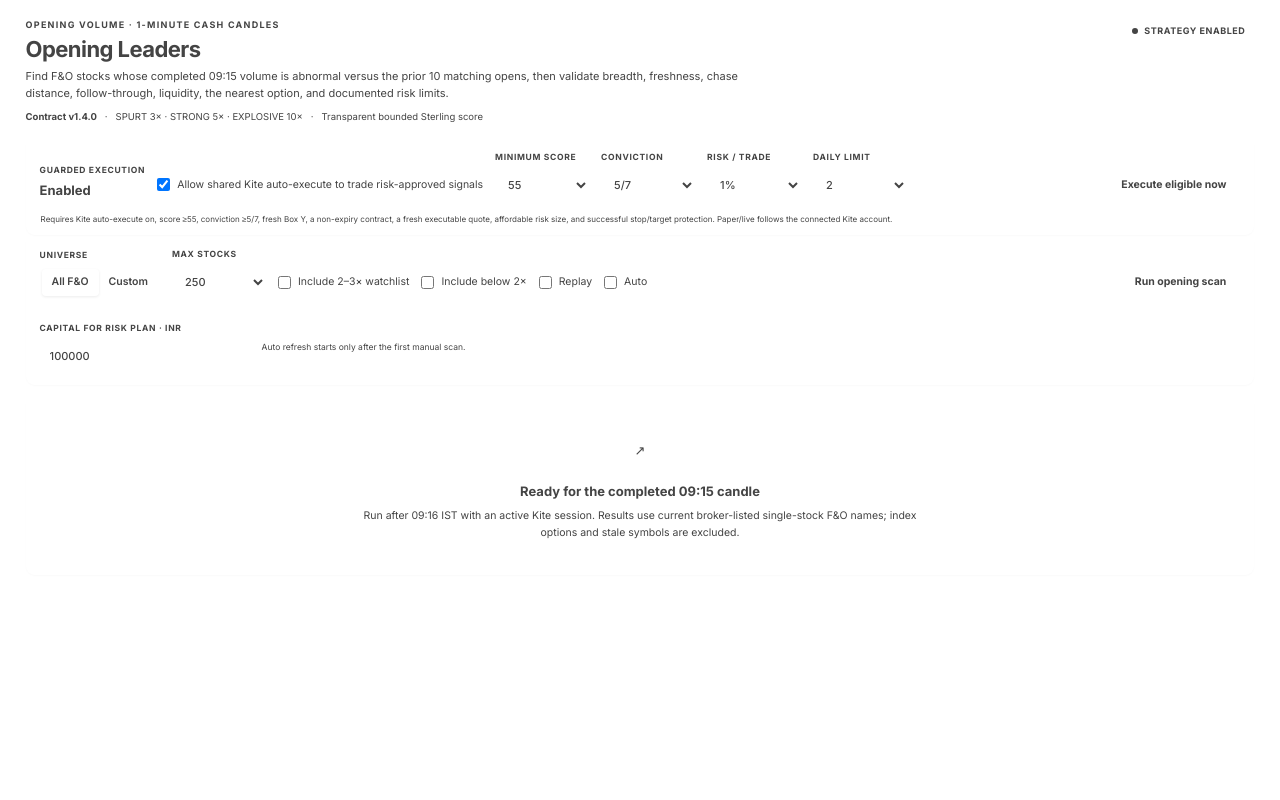
Test case: OpeningVolumeLeadersPane › does not send an empty custom-symbol scan
Click the button "Custom" at (128, 283), box [99,269,158,296]
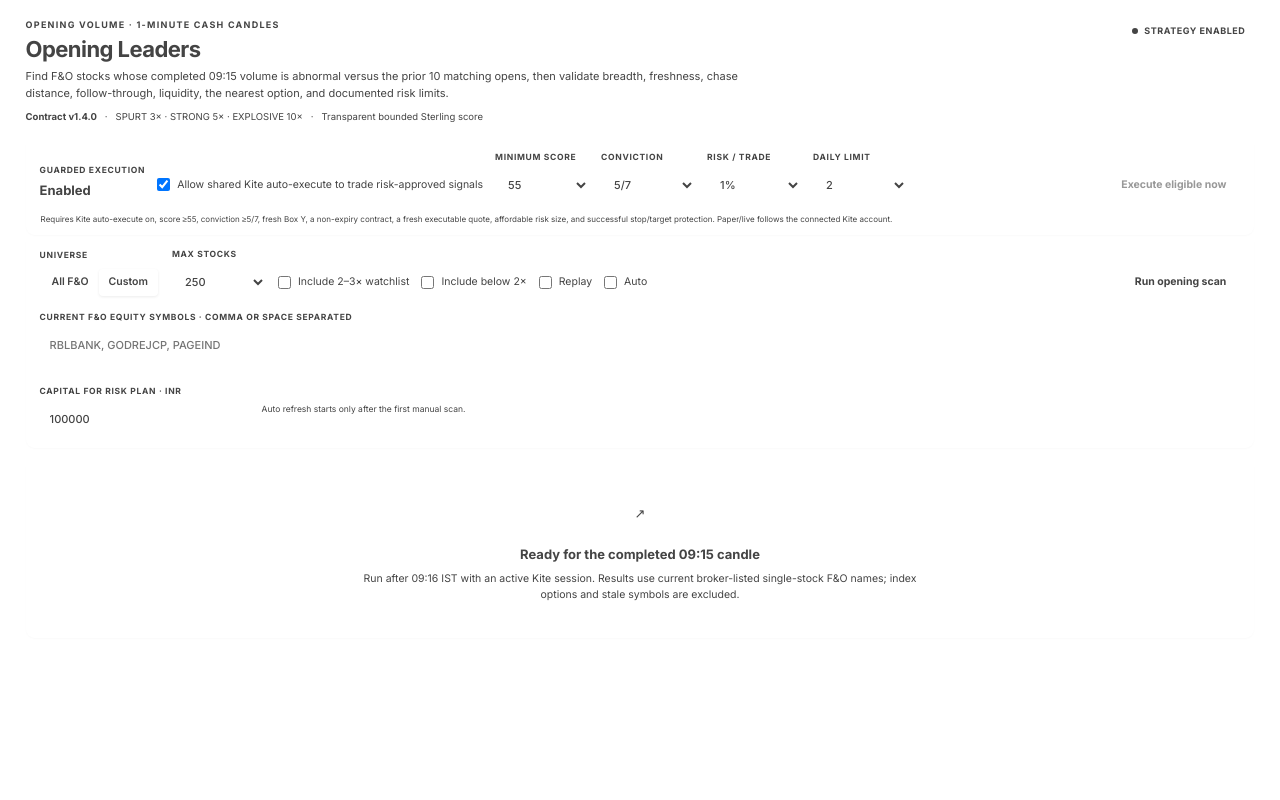
Click the button "Run opening scan" at (1181, 282), box [1121,266,1240,298]
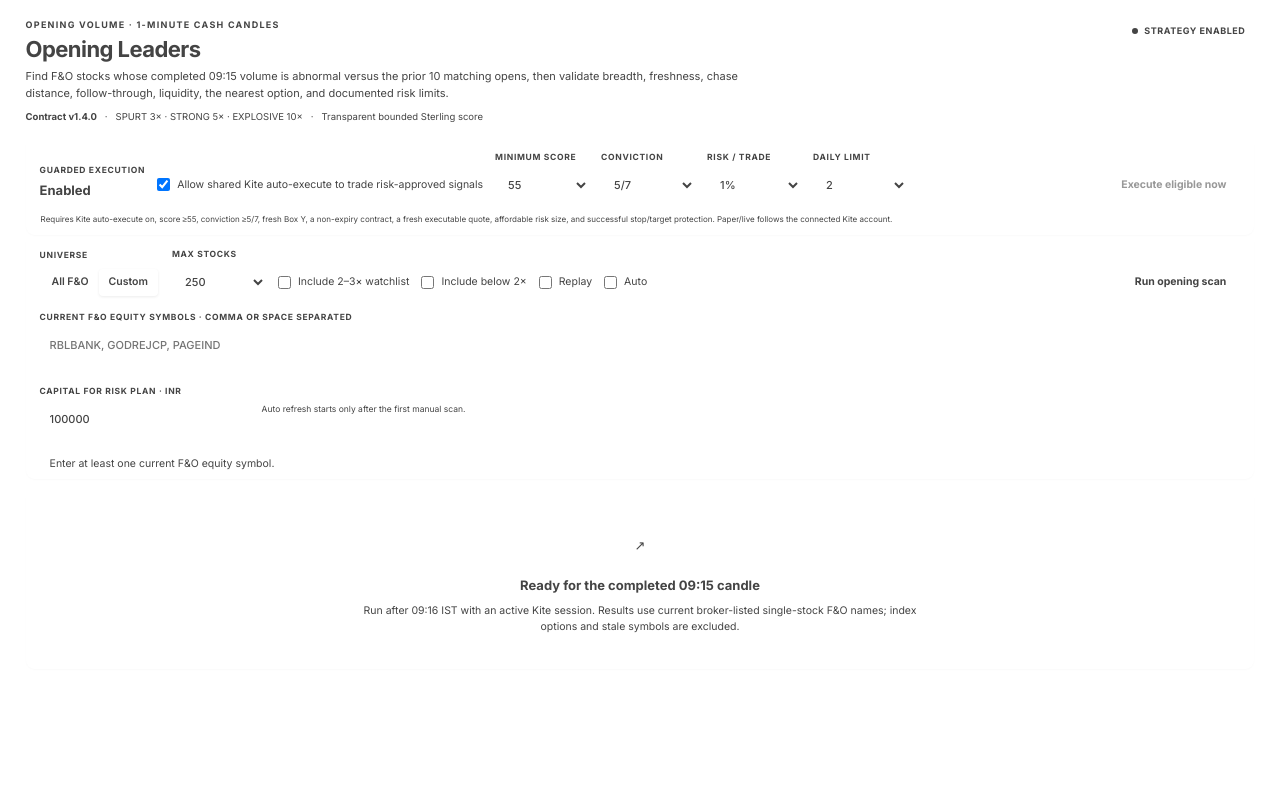
Expected: the message shows "Enter at least one", [50,457,274,470]
